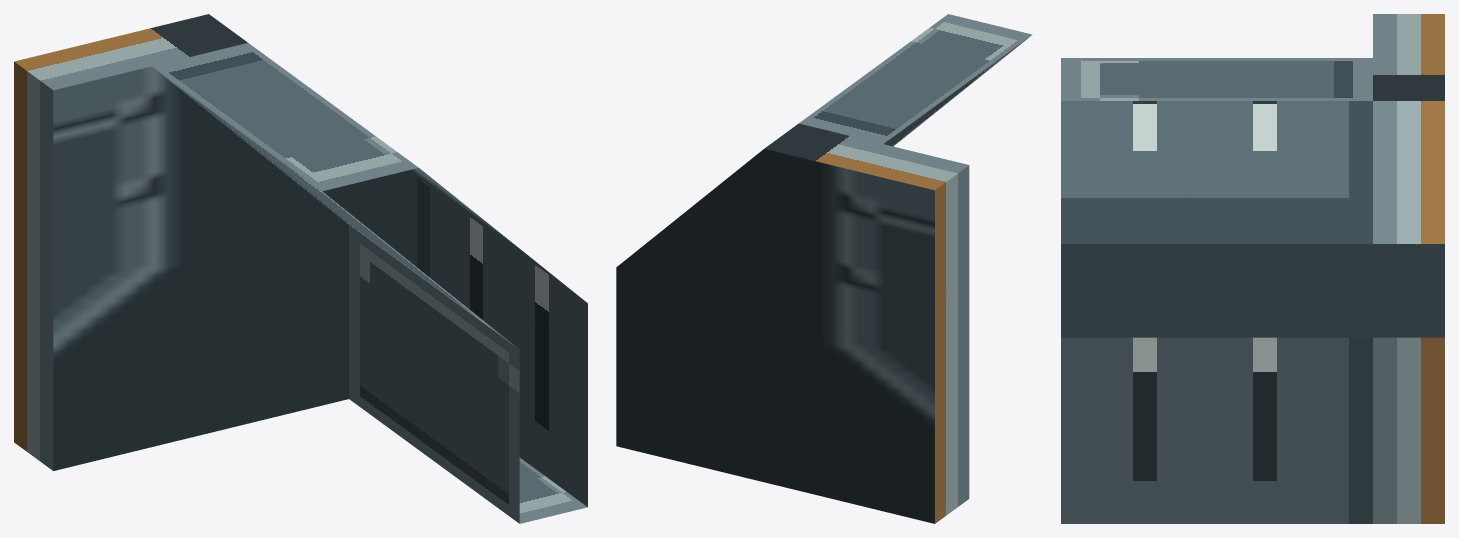
The model's file is casing_d5_front_x2_y1.obj.
3 views of the same model, side by side, from view 1: azimuth 30°, elevation 25°; view 2: azimuth 150°, elevation 25°; view 3: azimuth 270°, elevation 25° (orthographic). The views are drawn at different scales.
Visible parts, largest first — view 1: d5_front_x2_y1; view 2: d5_front_x2_y1; view 3: d5_front_x2_y1.
Boxes of the visible parts, bbox=[...] form: d5_front_x2_y1: bbox=[14, 14, 587, 523]; d5_front_x2_y1: bbox=[616, 14, 1032, 523]; d5_front_x2_y1: bbox=[1061, 14, 1444, 523].
Size of the model in its own units: 1 by 1 by 1.
